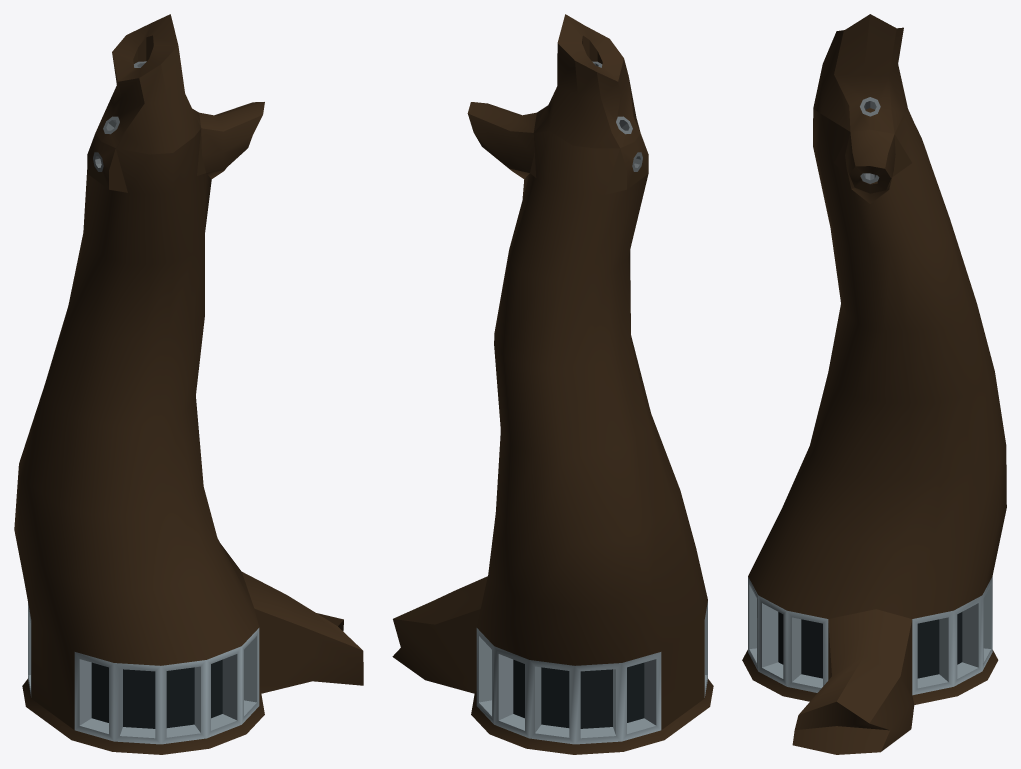
The model's file is Turret_2.fbx.
3 views of the same model, side by side, from view 1: azimuth 30°, elevation 25°; view 2: azimuth 150°, elevation 25°; view 3: azimuth 270°, elevation 25° (orthographic). The views are drawn at different scales.
Parts seen in each view (by area): view 1: Steam_Vent; view 2: Steam_Vent; view 3: Steam_Vent.
Boxes of the visible parts, x1,y1,x2,y2 form: Steam_Vent: (14,14,363,754); Steam_Vent: (392,14,713,754); Steam_Vent: (742,14,1006,754).
Size of the model in its own units: 1.76 by 3.86 by 1.41.
